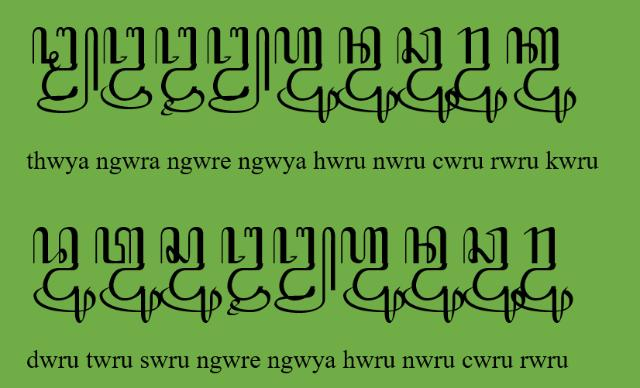cwru: (396, 26, 460, 124), (462, 226, 526, 324)
dwru: (32, 226, 96, 324)
hwru: (274, 26, 340, 124), (340, 226, 406, 324)
kwru: (507, 27, 577, 125)
ngwra: (100, 26, 152, 110)
ngwre: (220, 226, 272, 316), (156, 25, 204, 116)
ngwya: (206, 26, 270, 114), (273, 226, 337, 314)
nwru: (337, 26, 399, 124), (402, 226, 464, 324)
rwru: (444, 26, 508, 124), (512, 226, 574, 324)
swru: (160, 226, 222, 324)
thwy: (30, 26, 100, 116)
twru: (94, 226, 162, 324)
